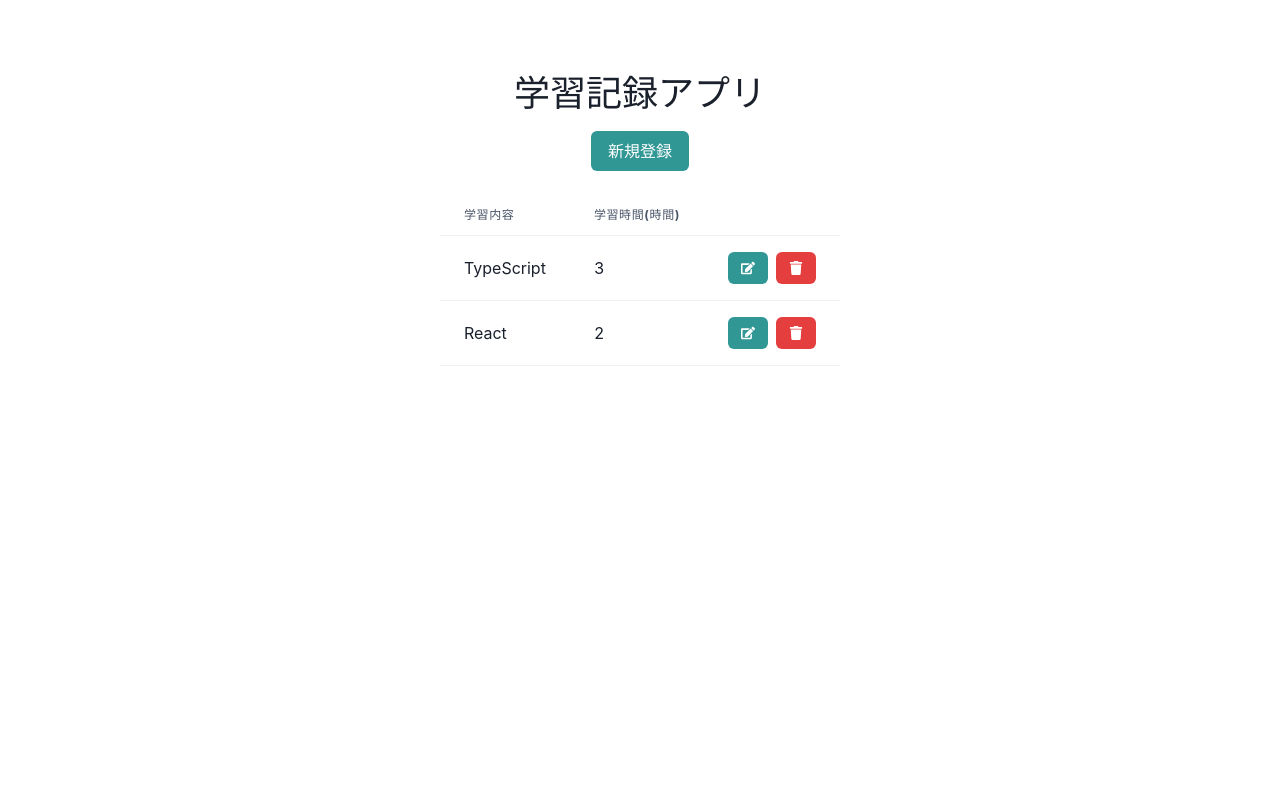
Test: 編集機能 › 編集後に新規登録を開くとフォームが空になる
This screenshot has width=1280, height=800.
expect the table is shown: met, box [440,195,840,366]
// 編集ボタンを押す
Step 1. Click the 2nd button → (748, 268), box [728,252,768,284]
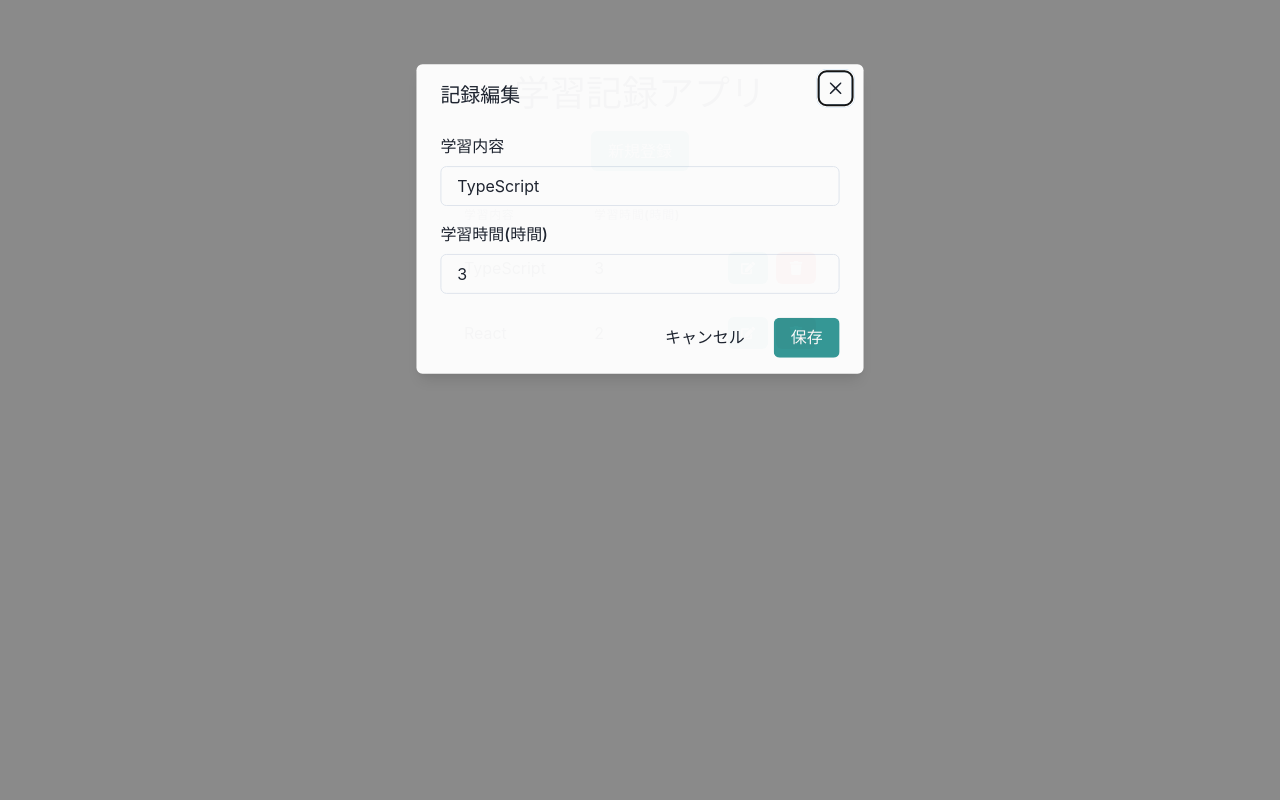
expect the field with placeholder "例: TypeScript" holds "TypeScript": met, box [440,166,840,206]
// モーダルを閉じる
Step 2. Click the button "キャンセル" → (705, 338), box [648,318,762,358]
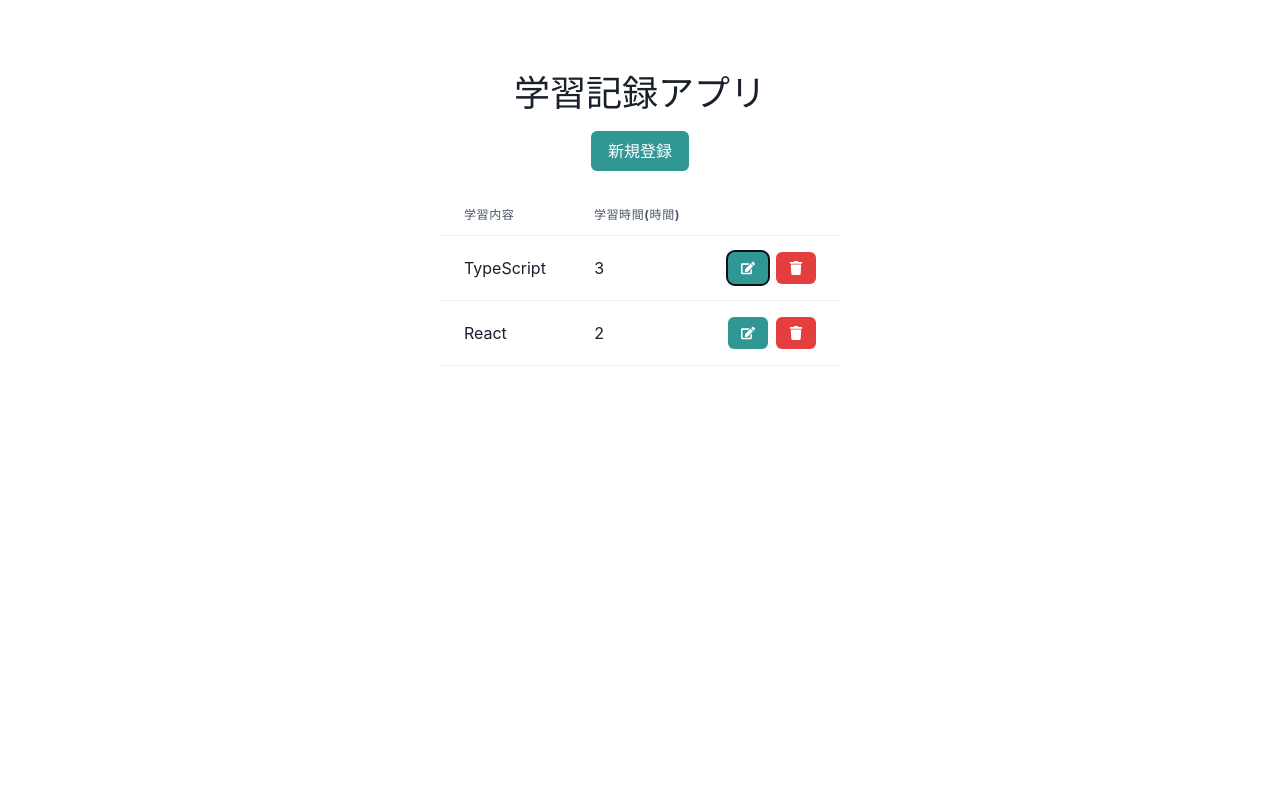
expect the dialog is gone: met
//  新規登録を押す
Step 3. Click the button "新規登録" → (640, 151), box [591,131,689,171]
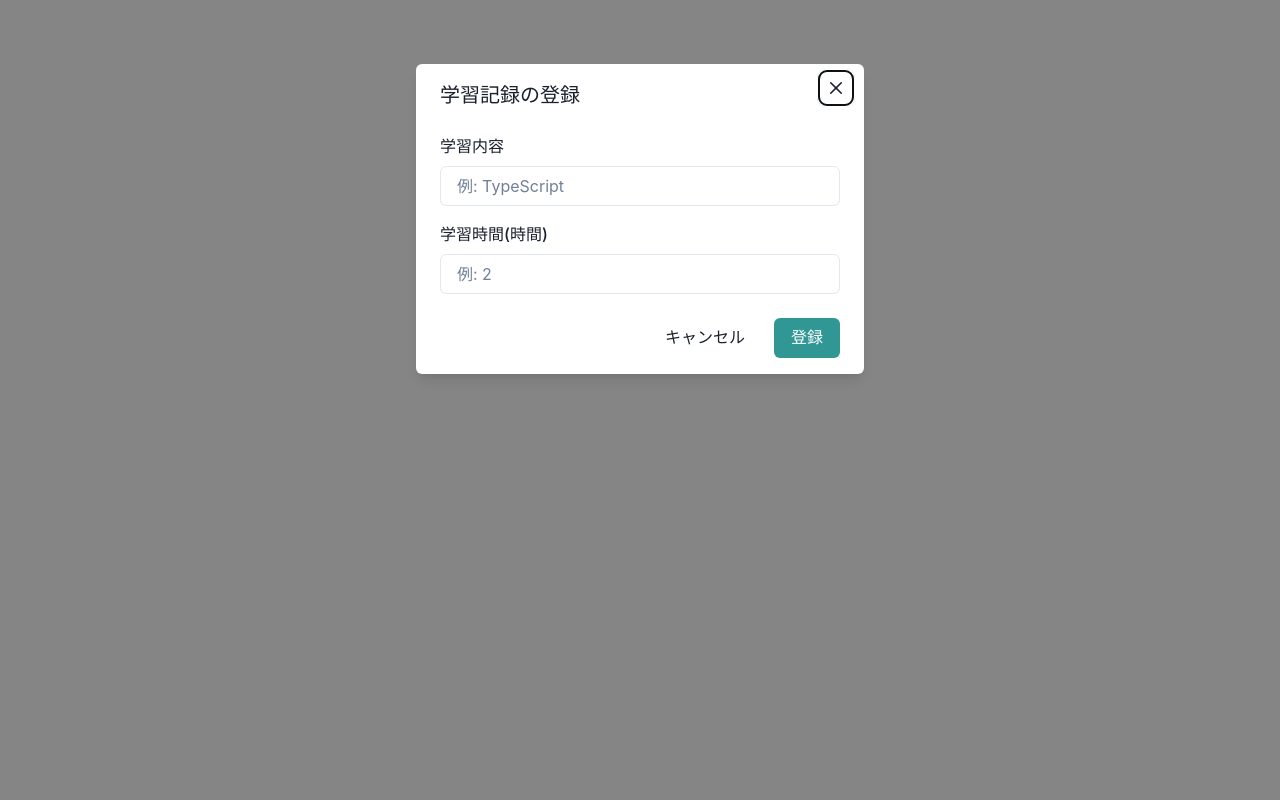
expect the field with placeholder "例: TypeScript" is empty: met, box [440,166,840,206]
expect the number field with placeholder "例: 2" is not empty: met, box [440,254,840,294]
